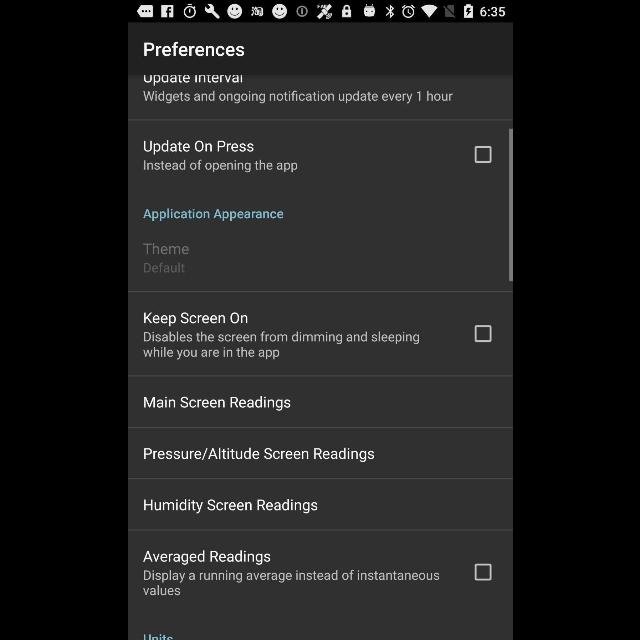checkbox: (473, 563, 491, 581), (474, 146, 491, 164), (474, 326, 491, 342)
text: (143, 332, 419, 360), (142, 570, 438, 596), (142, 90, 452, 104), (143, 448, 373, 462), (144, 498, 316, 514), (143, 396, 290, 412), (142, 208, 284, 222), (143, 160, 297, 172), (143, 551, 270, 565), (143, 141, 253, 155), (143, 312, 247, 326), (144, 42, 244, 56), (143, 74, 241, 86), (142, 243, 188, 255), (143, 262, 184, 274)
toolbar: (128, 24, 512, 74)
uppertaskbar: (128, 1, 512, 23)
